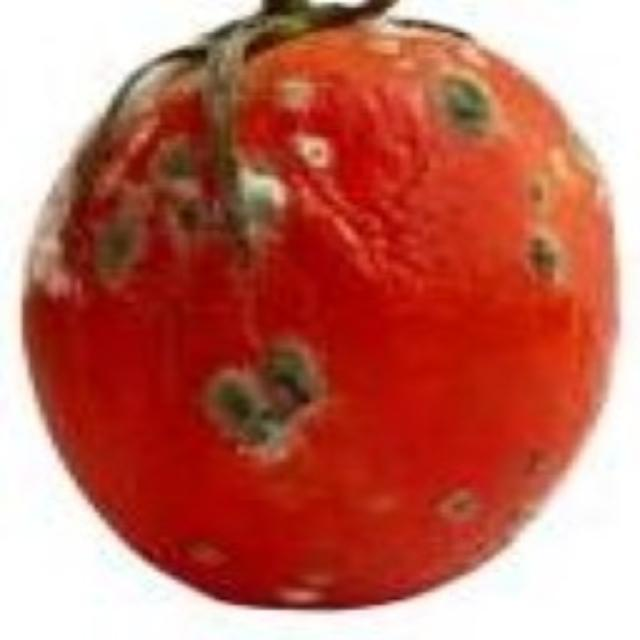defect: (23, 0, 617, 606)
